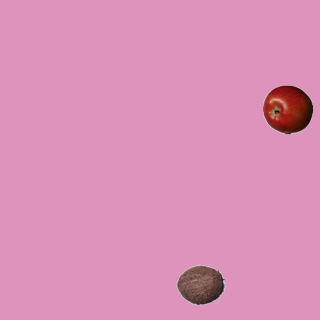Apple Braeburn: (262, 84, 312, 134)
Cocos: (175, 259, 225, 309)
